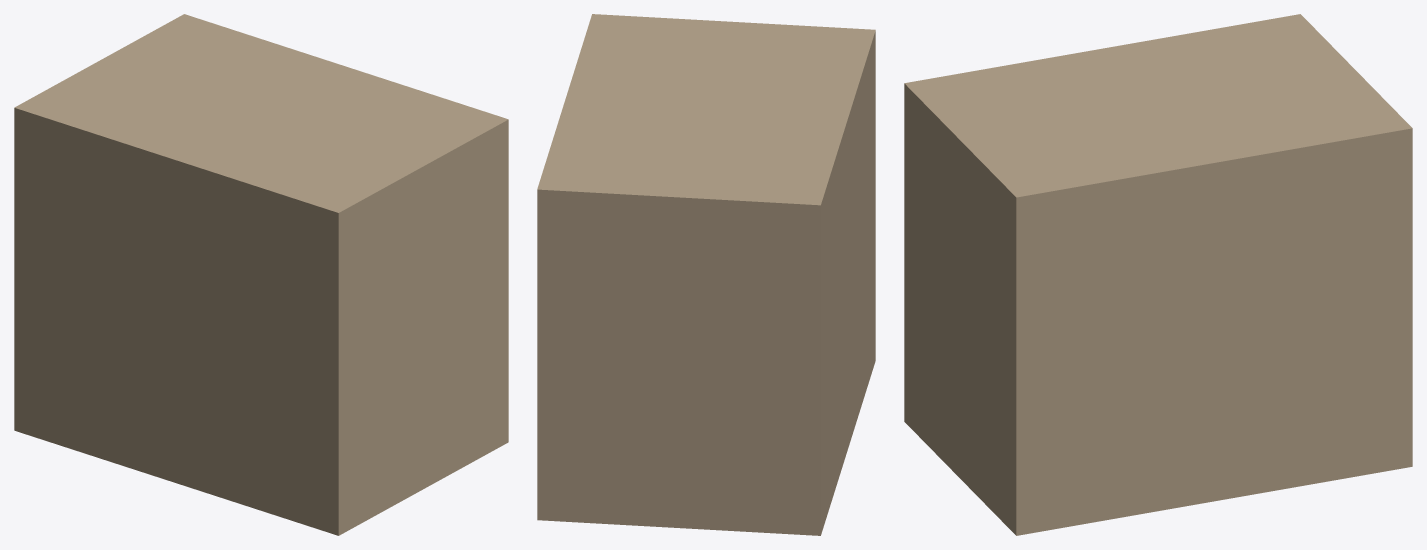
The model's file is bld_106339040.dae.
3 renders of one model, left to right at view 1: azimuth 30°, elevation 25°; view 2: azimuth 150°, elevation 25°; view 3: azimuth 270°, elevation 25°, orthographic. The views are drawn at different scales.
Visible parts, largest first — view 1: bld_106339040; view 2: bld_106339040; view 3: bld_106339040.
Part boxes in pixels (<box>): bld_106339040: <box>14,14,508,535</box>; bld_106339040: <box>537,14,875,535</box>; bld_106339040: <box>904,14,1412,535</box>.
Size of the model in its own units: 9.31 by 10.89 by 8.
